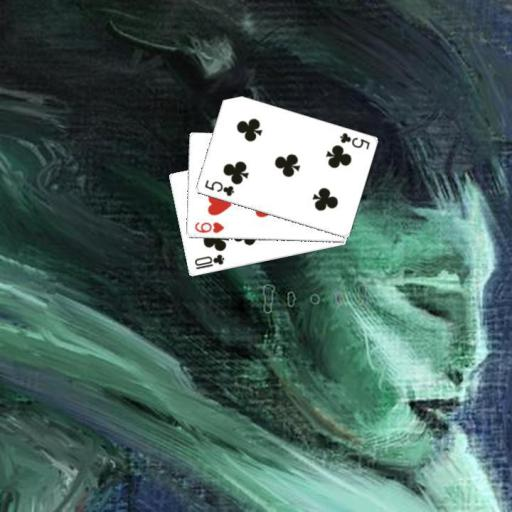10C: (191, 252, 226, 271)
5C: (337, 129, 371, 151), (202, 177, 236, 198)
6H: (192, 219, 226, 235)
